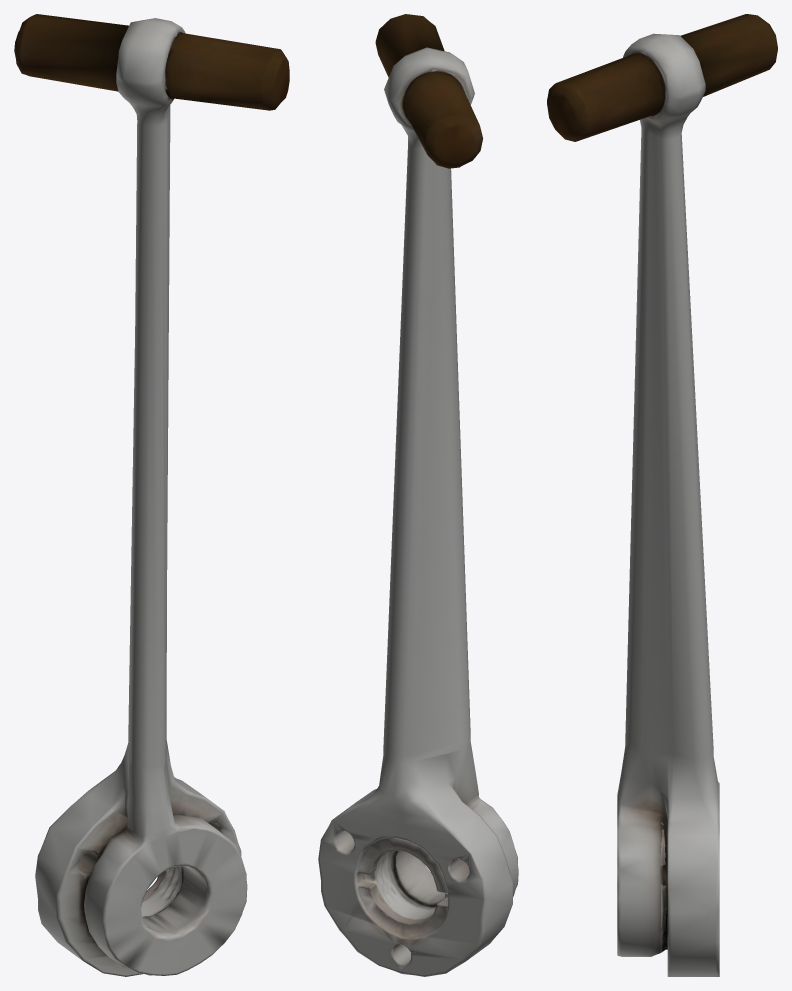
Rendered from ck_lever_t_remesh.glb.
The picture shows the model from 3 angles, left to right: view 1: azimuth 30°, elevation 25°; view 2: azimuth 150°, elevation 25°; view 3: azimuth 270°, elevation 25°; orthographic projection. The views are drawn at different scales.
Visible parts, largest first — view 1: tripo_node_f77f243f-bcb1-4ab1-a293-9292c; view 2: tripo_node_f77f243f-bcb1-4ab1-a293-9292c; view 3: tripo_node_f77f243f-bcb1-4ab1-a293-9292c.
Boxes of the visible parts, x1=… form: tripo_node_f77f243f-bcb1-4ab1-a293-9292c: x1=14, y1=14, x2=289, y2=976; tripo_node_f77f243f-bcb1-4ab1-a293-9292c: x1=318, y1=14, x2=518, y2=976; tripo_node_f77f243f-bcb1-4ab1-a293-9292c: x1=547, y1=14, x2=777, y2=976.
Size of the model in its own units: 0.2094 by 1 by 0.225.
1 material, 1 textured.
